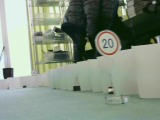speed_20: (93, 29, 122, 57)
